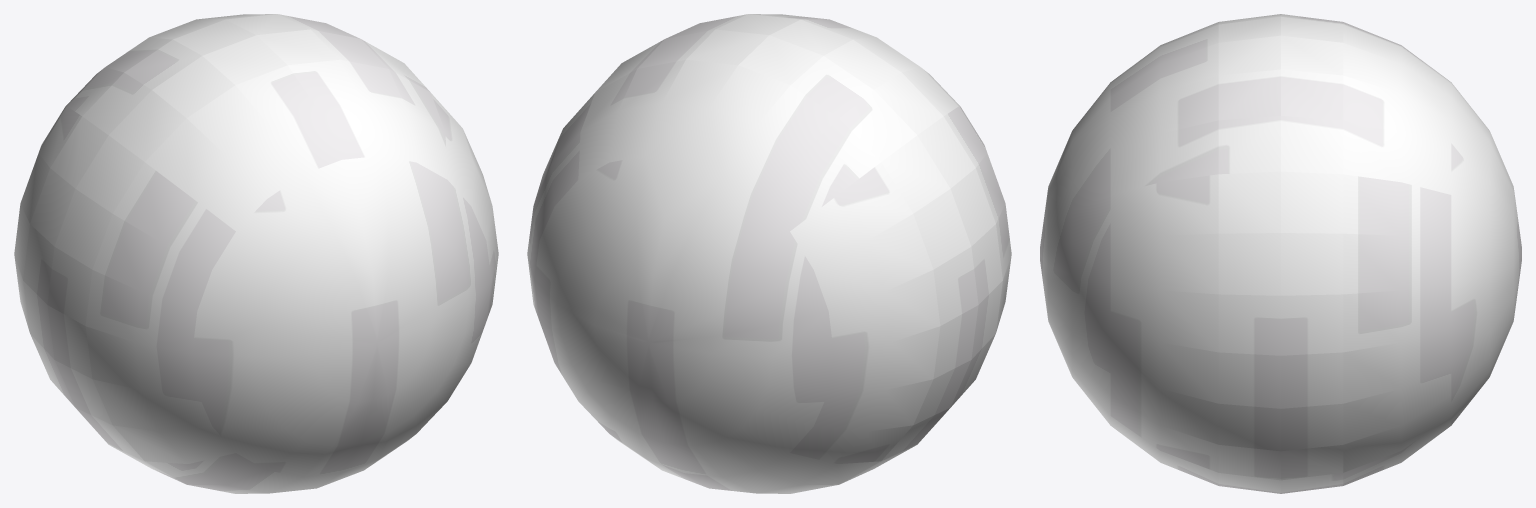
The model's file is ball.obj.
The picture shows the model from 3 angles, left to right: view 1: azimuth 30°, elevation 25°; view 2: azimuth 150°, elevation 25°; view 3: azimuth 270°, elevation 25°; orthographic projection.
Bounding box in the file's own units: 1 × 1 × 1.
Materials: 1 (1 with a texture image).
